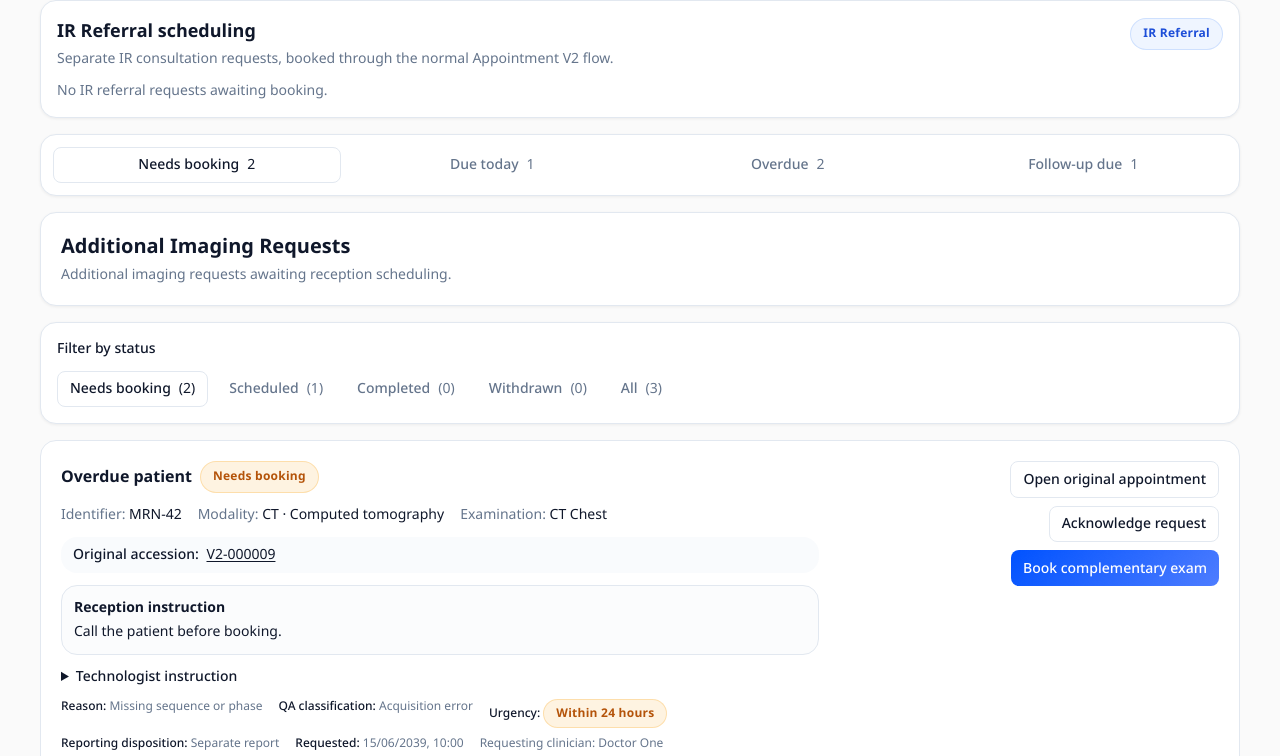
Test: Recall Requests metadata › filters AR-07 attention, clears it with a status filter, and keeps attention read-only for doctors
Check: the heading "Overdue patient" is shown, box [61,465,192,489]
Click the button "Overdue 2" at (788, 165), box [644,147,932,184]
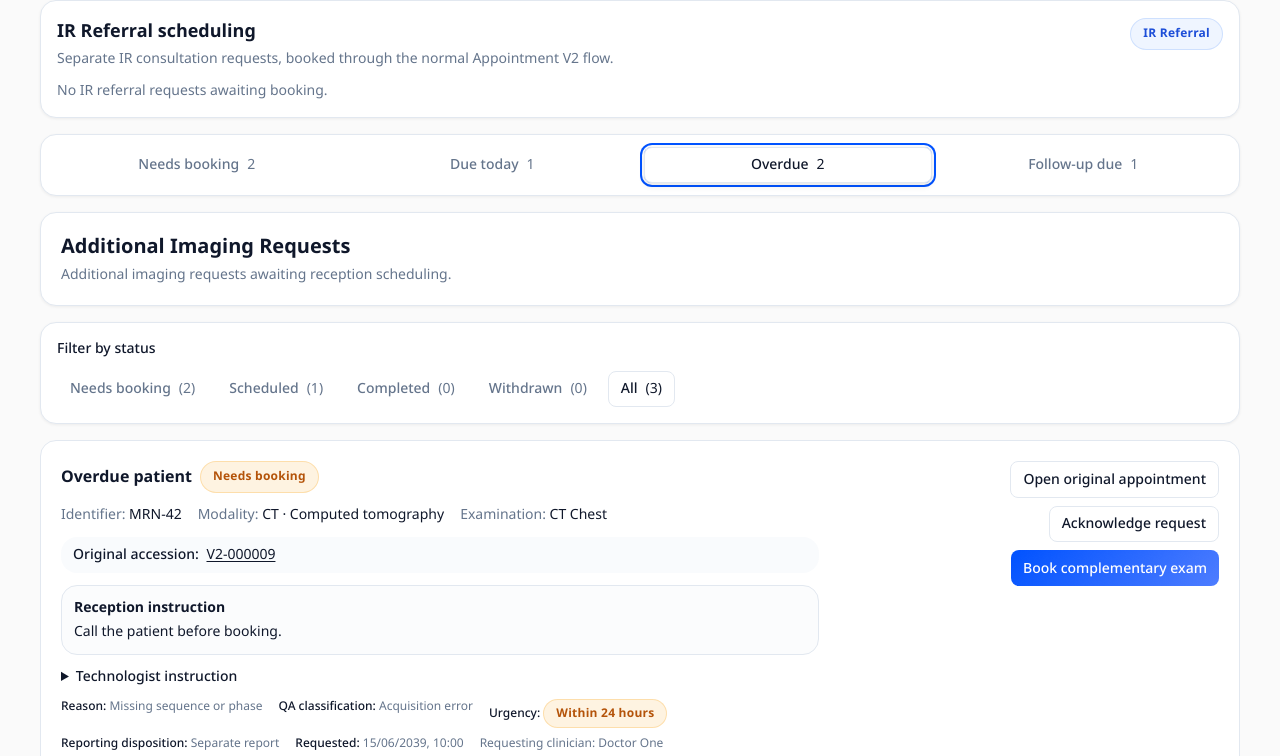
Click the button "Scheduled (1)" at (276, 390), box [216,372,336,408]
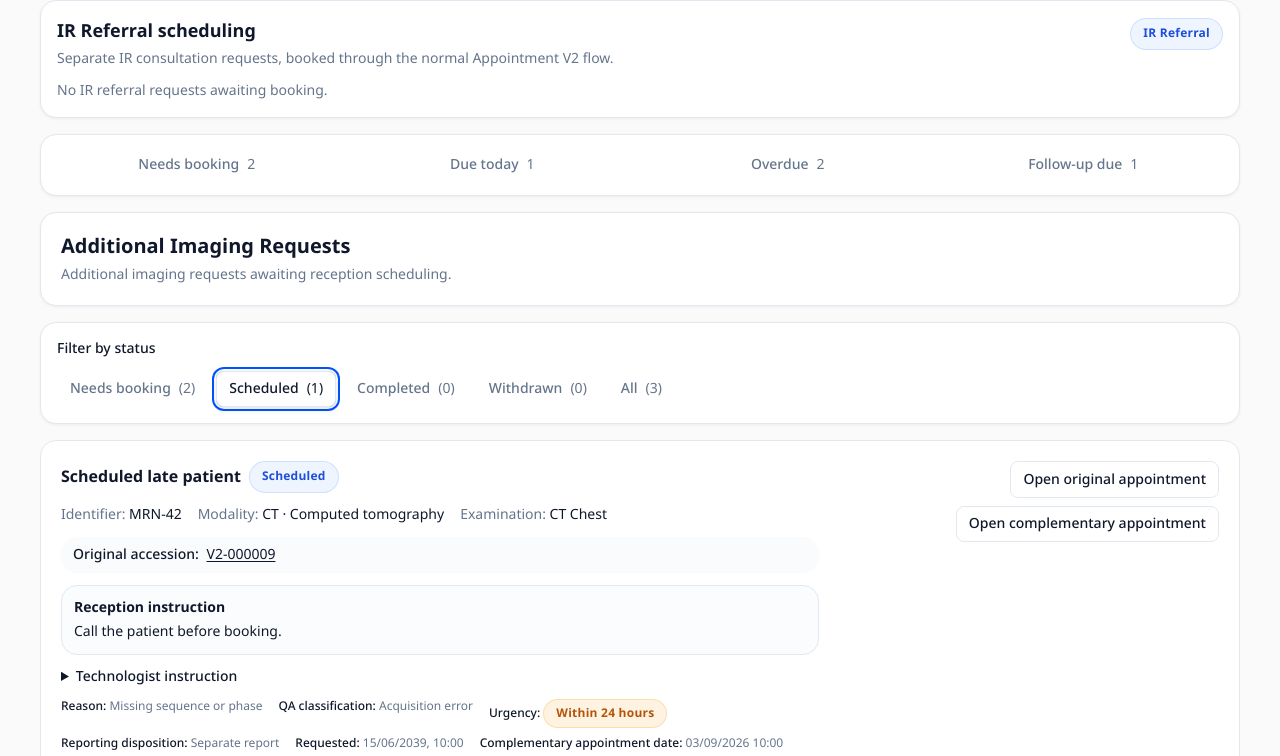
Check: the heading "Scheduled late patient" is shown, box [61,465,241,489]
Check: the heading "Overdue patient" is gone
